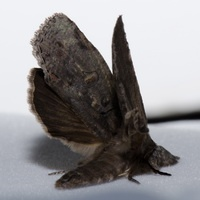insect: (29, 13, 178, 188)
